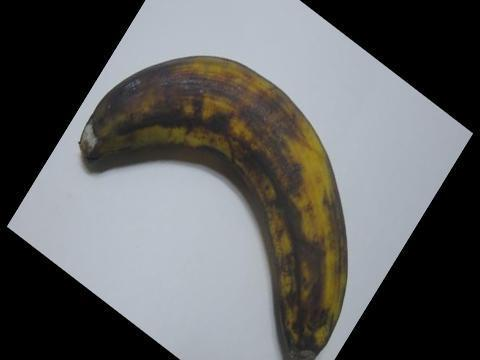overripe: (75, 29, 345, 359)
